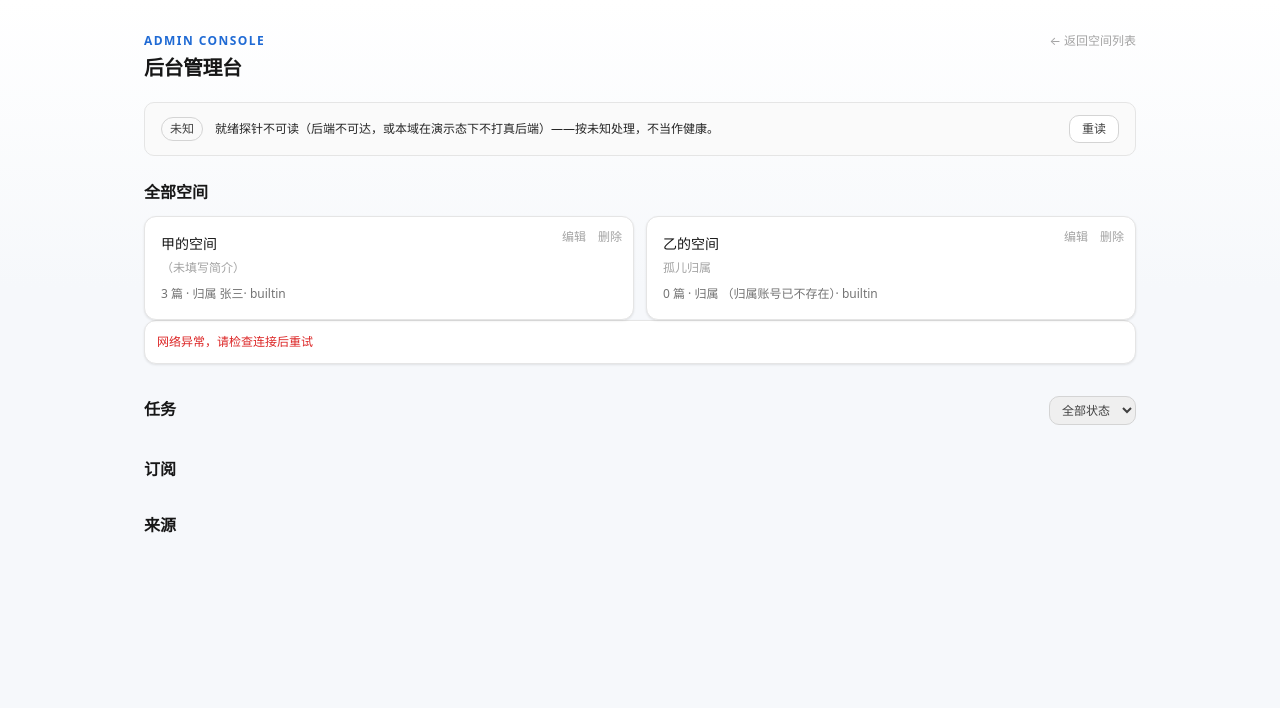
Scenario: 后台管理台：批量操作只走 admin 端点 › admin 端点整批被拒：如实呈现错误信封文案，不把失败说成成功
This screenshot has width=1280, height=708.
Click the button "甲的空间 （未填写简介） 3 篇 · 归属 张三· builtin". click: (189, 244)
box: x1=144 y1=216 x2=634 y2=320
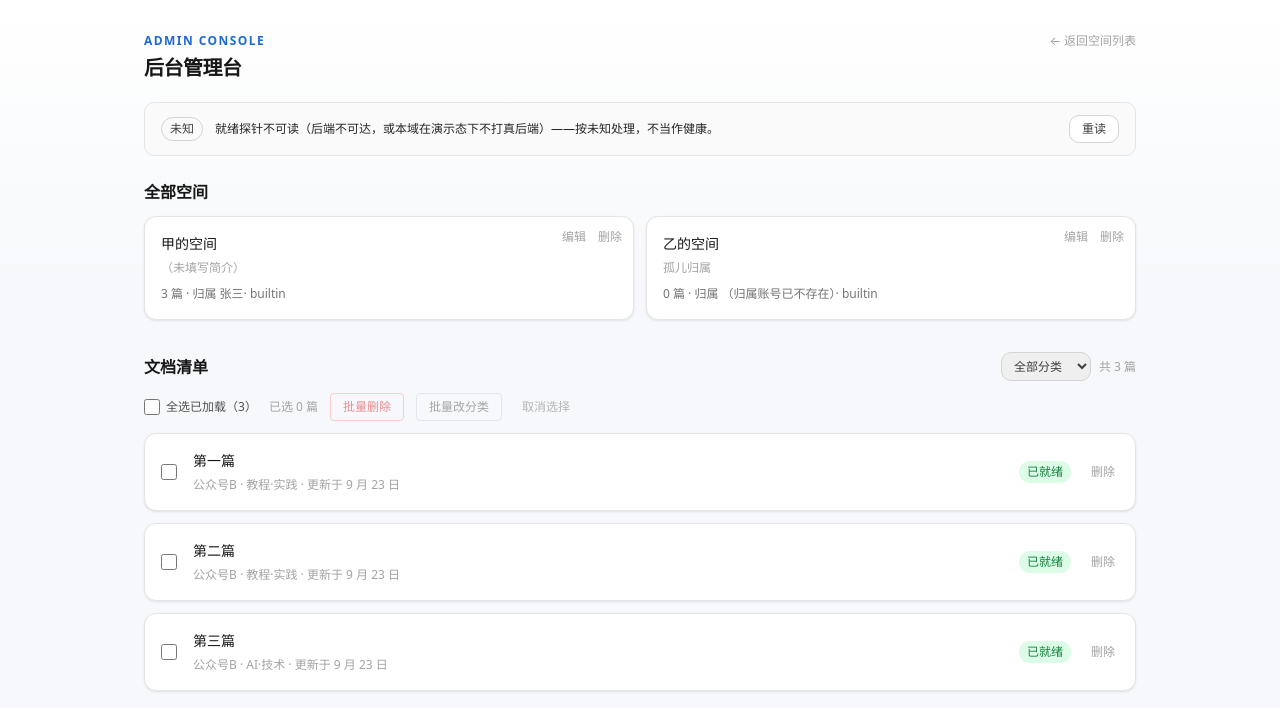
Check: the text "第一篇" is shown, box x1=193 y1=451 x2=235 y2=470
Click the checkbox named "选择文档：第一篇". click: (169, 472)
box: x1=161 y1=464 x2=177 y2=480
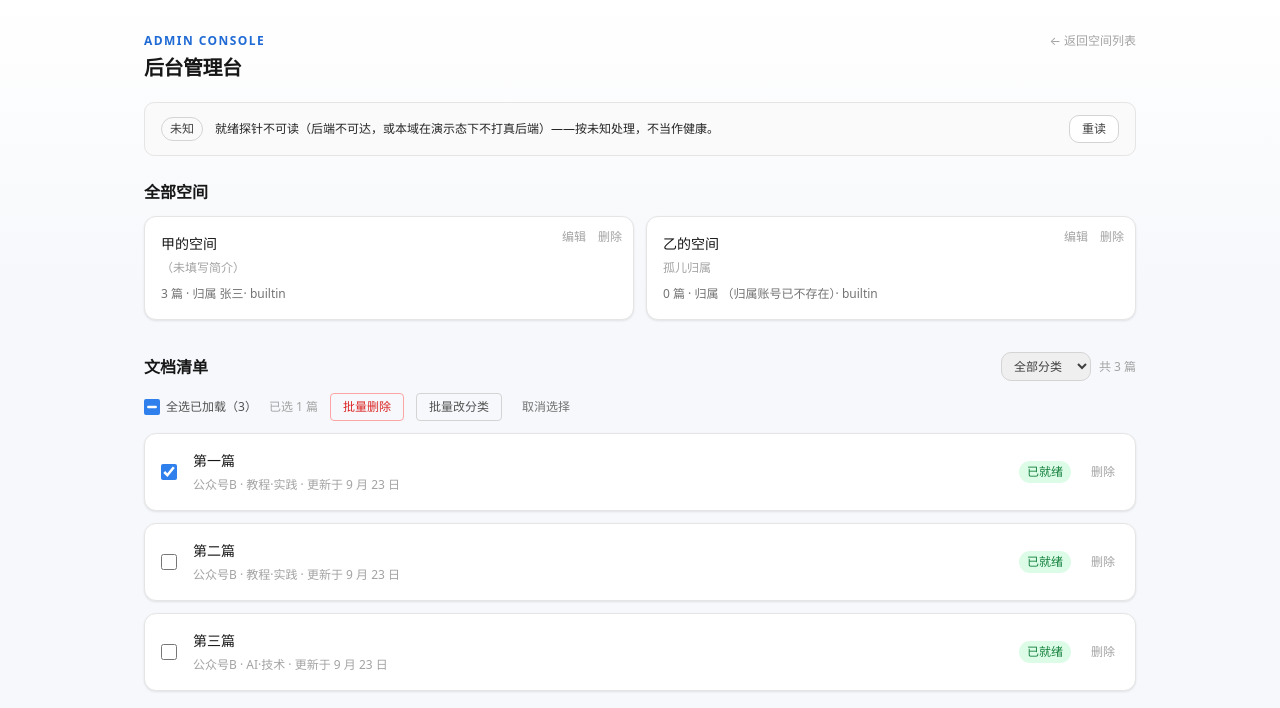
Click the button "批量改分类". click: (459, 407)
box: x1=416 y1=393 x2=502 y2=421
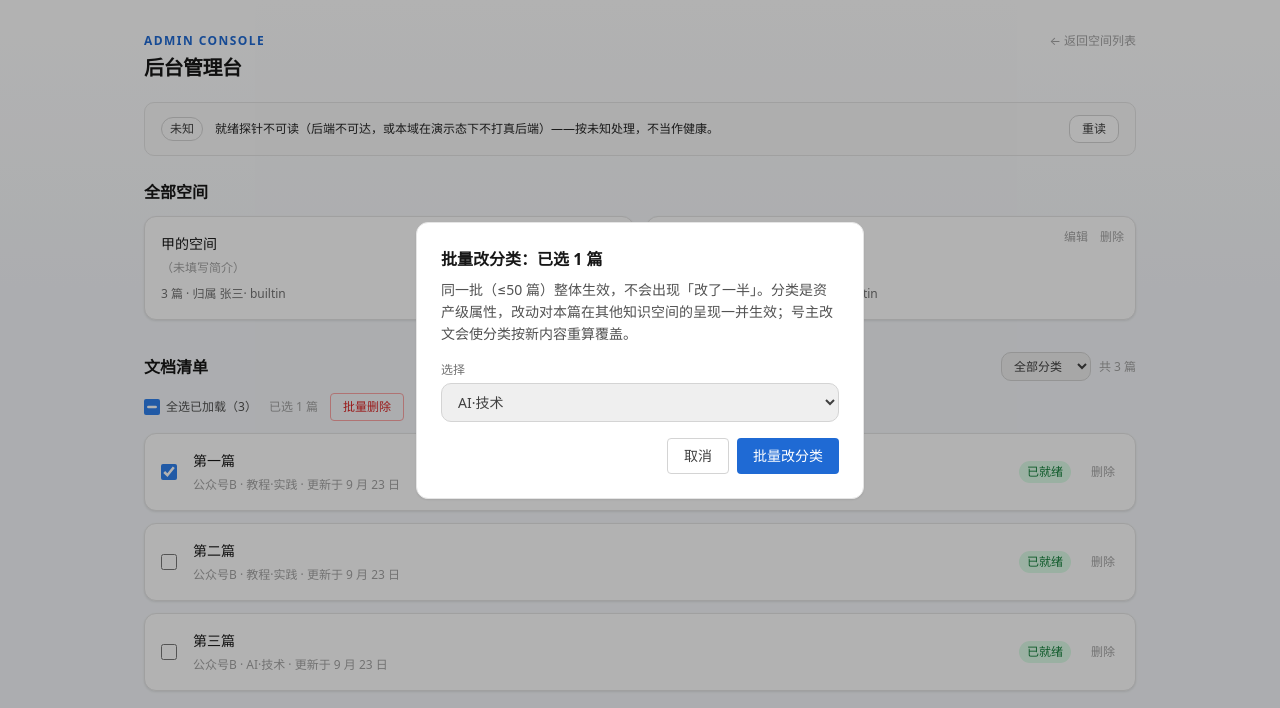
Select "AI·技术" in the dropdown labelled "选择". click: (640, 402)
box: x1=441 y1=382 x2=839 y2=422
Click the button "批量改分类". click: (788, 456)
box: x1=737 y1=438 x2=839 y2=474
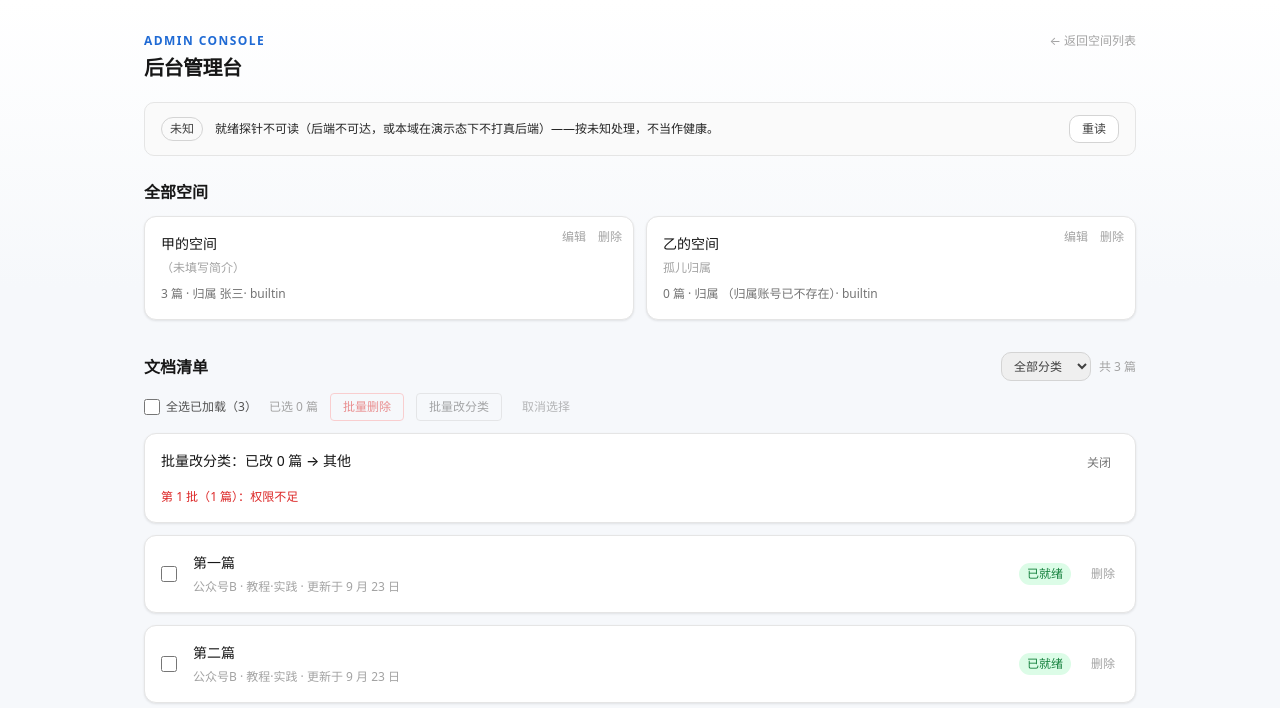
Check: the list item "第 1 批（1 篇）：权限不足" is shown, box x1=161 y1=488 x2=298 y2=505
